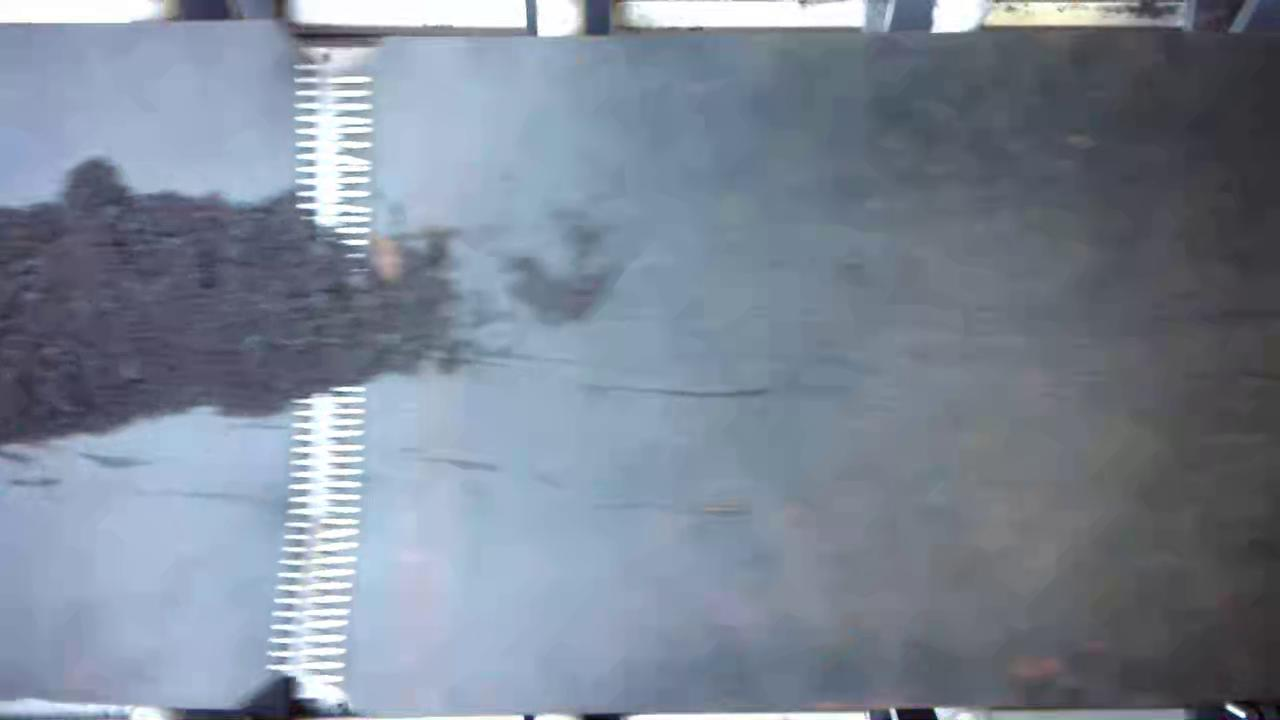conveyor: (5, 44, 1280, 695)
